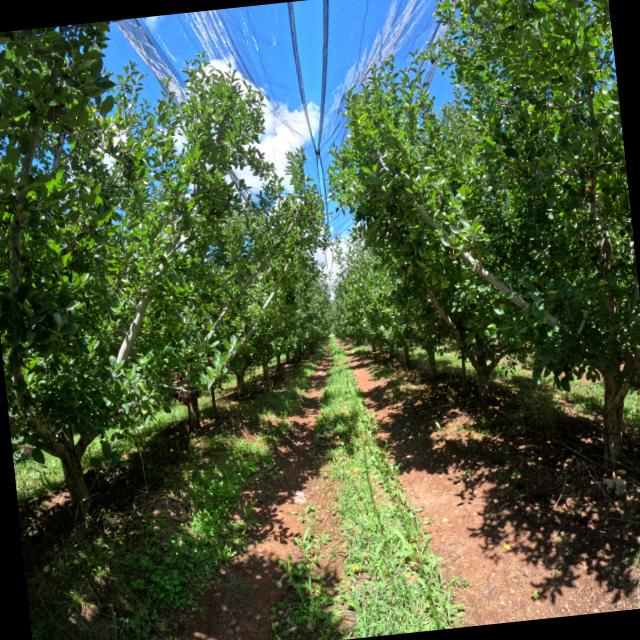-FireBlight-: (178, 391, 188, 406), (173, 370, 183, 380), (209, 356, 213, 360)
